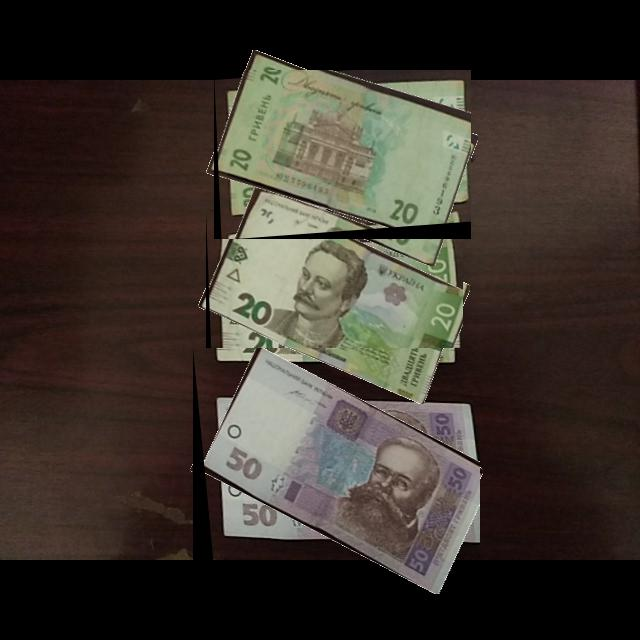20uah: (206, 210, 464, 384), (214, 70, 472, 240)
50uah: (202, 348, 481, 595)
